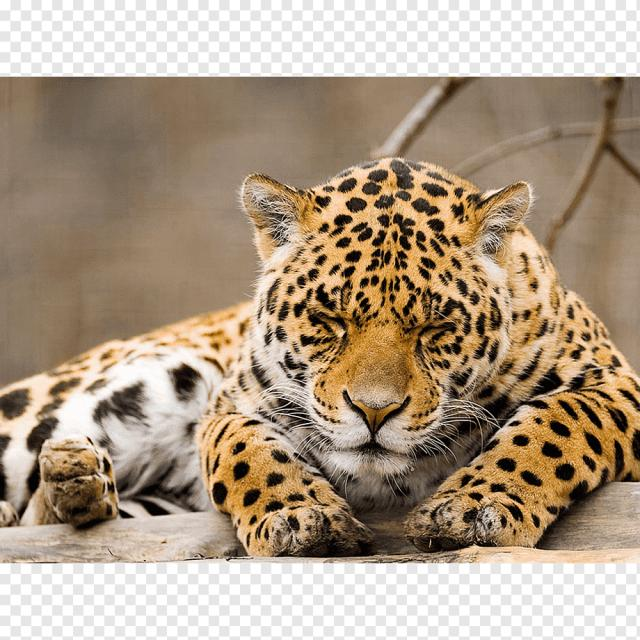Jaguar: (0, 147, 640, 558)
